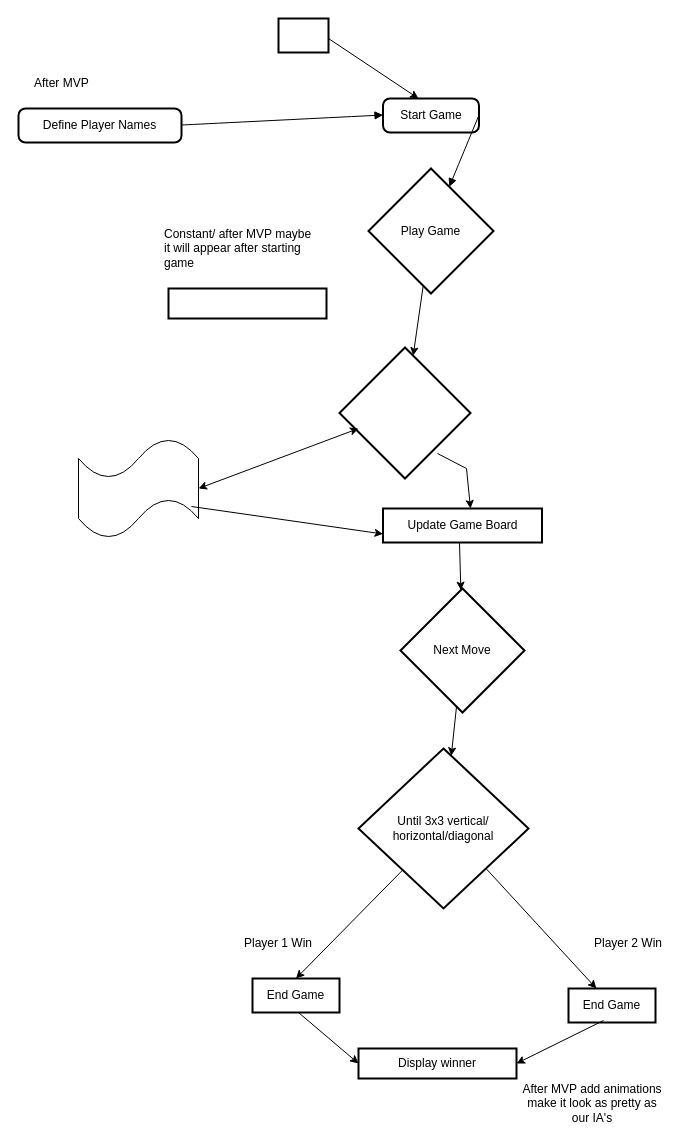
Some shapes in this 685 by 1142 pixel diagram are drawn without their labels. Each missing label, with the centre of its shape:
"Display Game Board" goes at (x=247, y=303).
"Make valid move" goes at (x=138, y=488).
"Start" goes at (x=303, y=35).
"Valid Move?" goes at (x=404, y=412).
